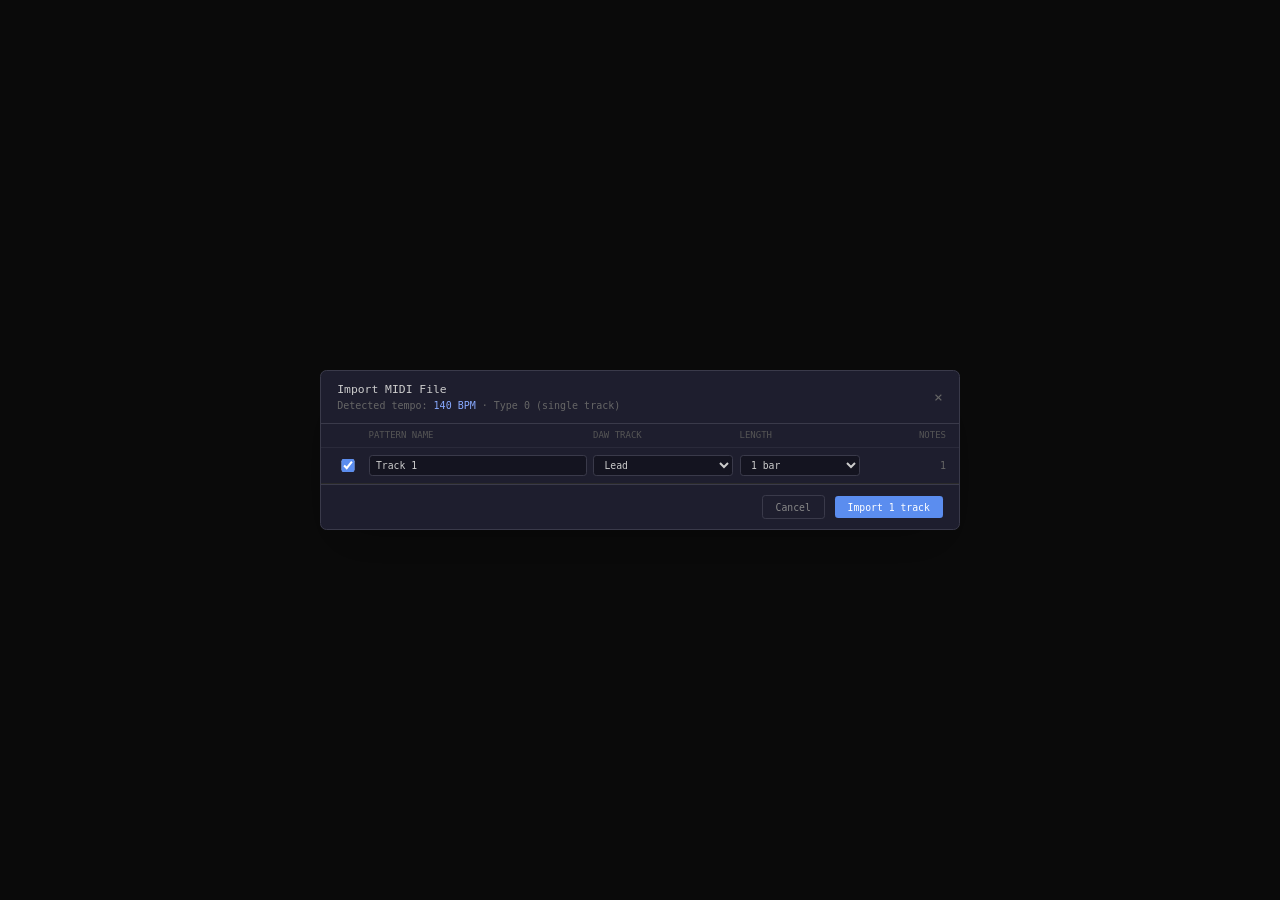
Test: MidiImportDialog › confirm is disabled when all tracks are unchecked
Click the checkbox with test id "import-track-checkbox-0".
click(348, 466)  # box [334,459,362,472]
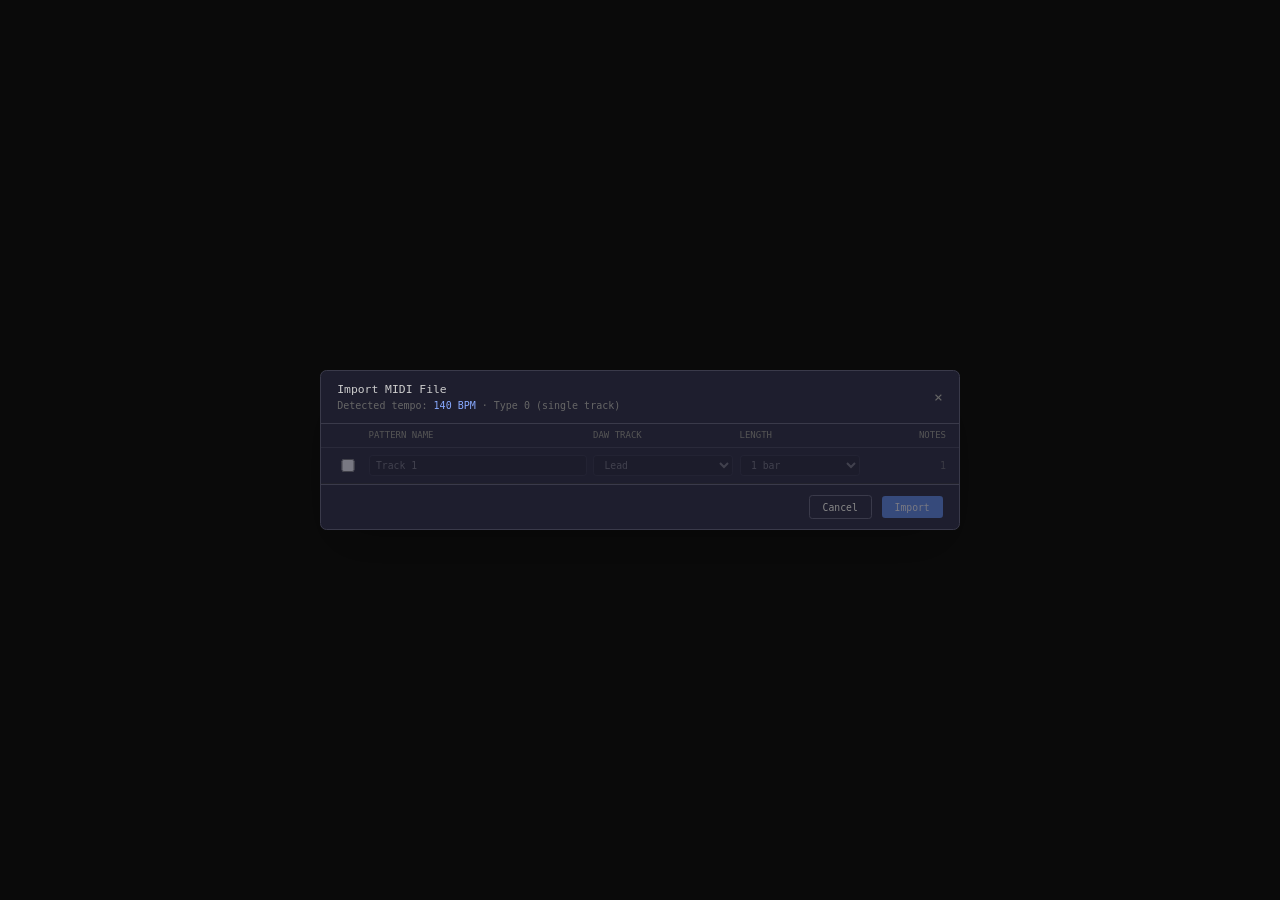
Check: the button with test id "midi-import-confirm" is disabled, box [882,496,943,518]
